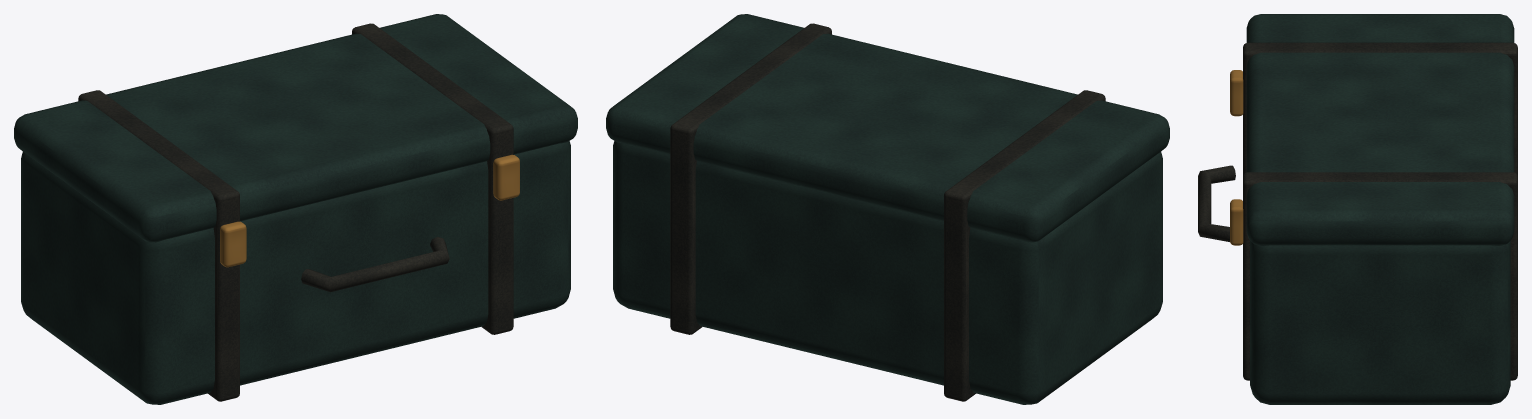
File: Toolbox.fbx
The picture shows the model from 3 angles, left to right: view 1: azimuth 30°, elevation 25°; view 2: azimuth 150°, elevation 25°; view 3: azimuth 270°, elevation 25°; orthographic projection. The views are drawn at different scales.
Visible parts, largest first — view 1: Toolbox_MotorPaint, Toolbox_Iron, Toolbox_Brass; view 2: Toolbox_MotorPaint, Toolbox_Iron; view 3: Toolbox_MotorPaint, Toolbox_Iron, Toolbox_Brass.
Boxes of the visible parts, <box> form: Toolbox_MotorPaint: <box>14,14,577,404</box>; Toolbox_Iron: <box>78,23,513,401</box>; Toolbox_Brass: <box>220,154,519,267</box>; Toolbox_MotorPaint: <box>606,14,1169,404</box>; Toolbox_Iron: <box>670,23,1105,401</box>; Toolbox_MotorPaint: <box>1246,14,1514,404</box>; Toolbox_Iron: <box>1198,42,1517,380</box>; Toolbox_Brass: <box>1230,70,1243,245</box>.
Bounding box in the file's own units: 86.2 × 39 × 56.41.
